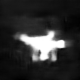plane: (12, 28, 72, 64)
